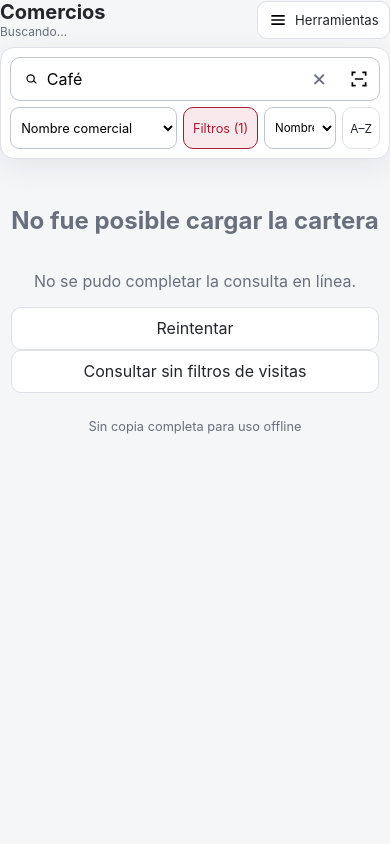
Test: visitas en listado móvil y escritorio › permite recuperar la consulta comercial tras un error de filtros de visitas
Click the button "Consultar sin filtros de visitas" at (195, 371), box top-left (11, 350), bottom-right (379, 393)
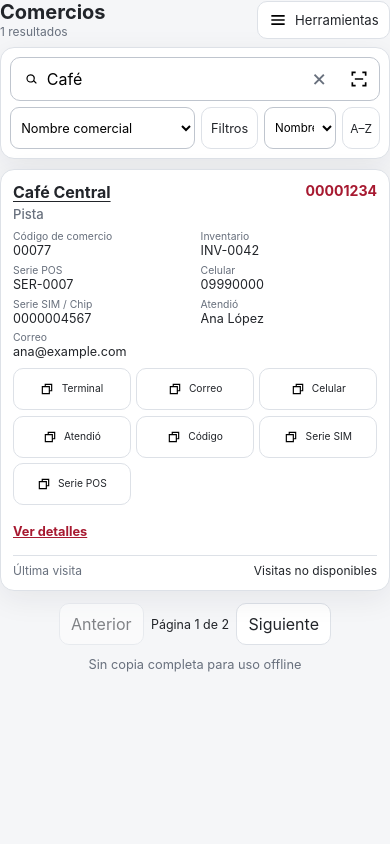
expect the field named "Buscar comercios" holds "Café": met, box top-left (38, 60), bottom-right (299, 98)
expect the link "Café Central" is shown: met, box top-left (13, 182), bottom-right (111, 202)
